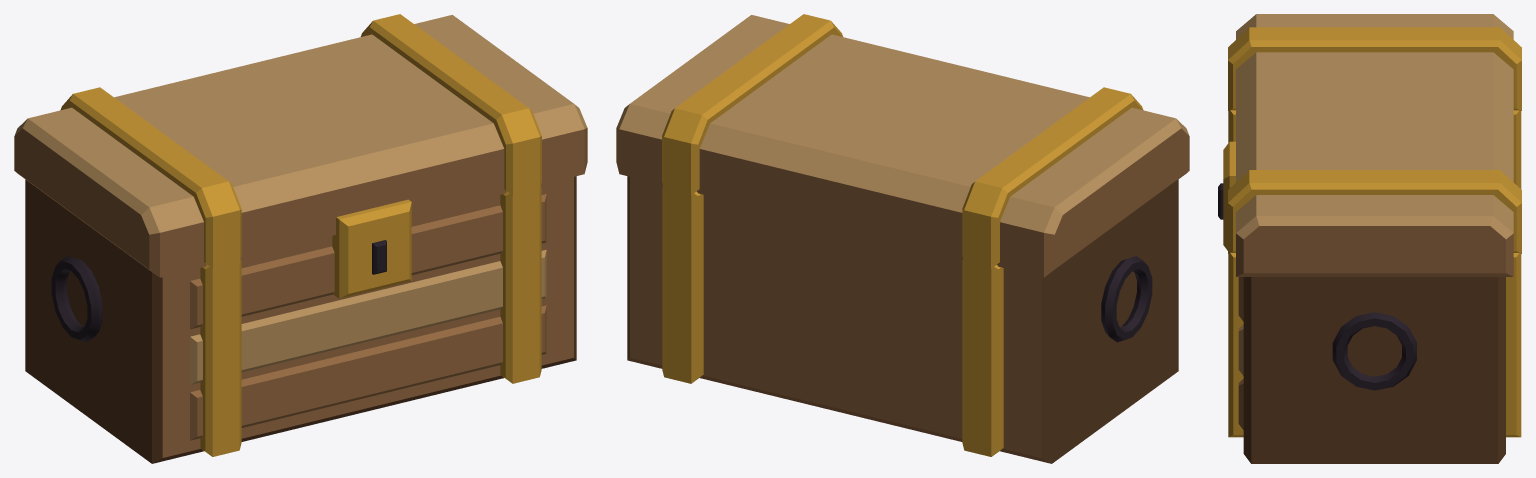
Rendered from Chest_04.glb.
3 renders of one model, left to right at view 1: azimuth 30°, elevation 25°; view 2: azimuth 150°, elevation 25°; view 3: azimuth 270°, elevation 25°, orthographic. The views are drawn at different scales.
Visible parts, largest first — view 1: Chest_04; view 2: Chest_04; view 3: Chest_04.
Boxes of the visible parts, x1,y1,x2,y2 form: Chest_04: (14, 14, 587, 463); Chest_04: (616, 14, 1189, 463); Chest_04: (1218, 14, 1521, 463).
Bounding box in the file's own units: 4.05 × 2.23 × 2.38.
